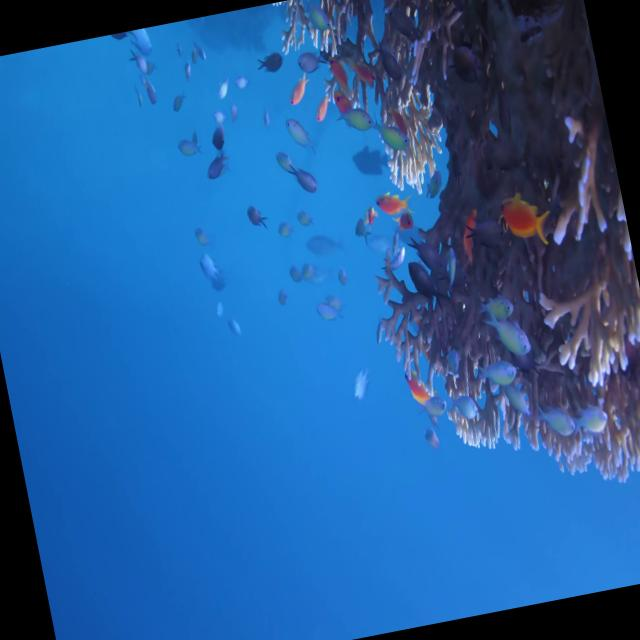fish: (499, 194, 557, 253), (484, 300, 534, 364)
